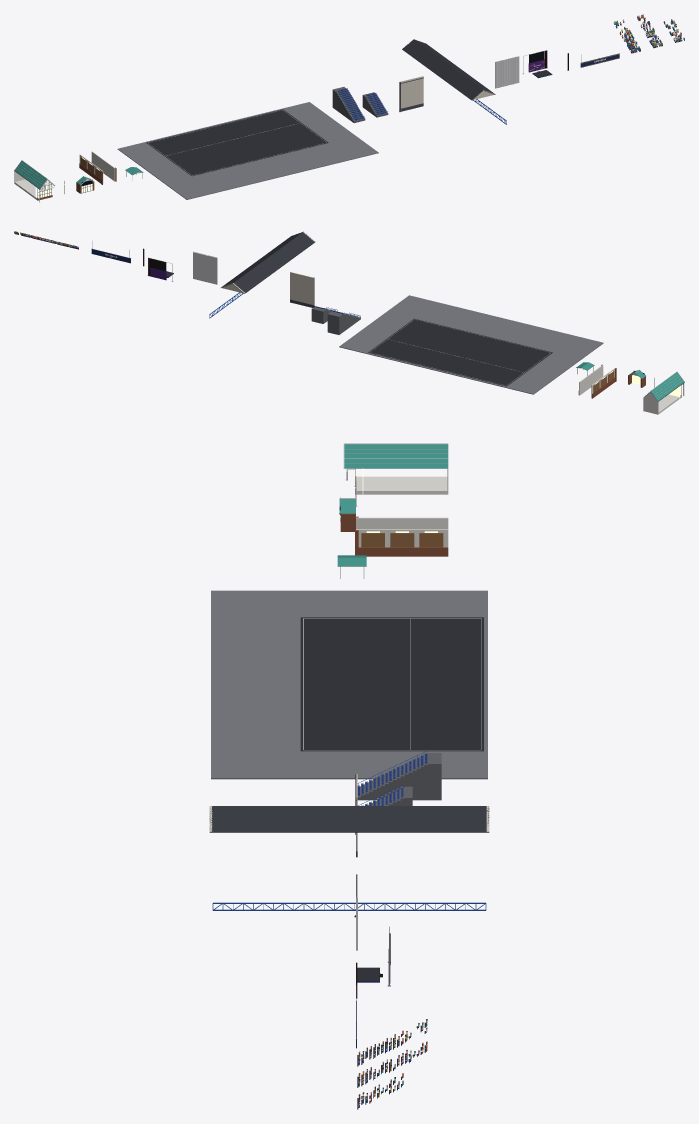
The model's file is NationalsArena_06.glb.
3 views of the same model, one above another, from view 1: azimuth 30°, elevation 25°; view 2: azimuth 150°, elevation 25°; view 3: azimuth 270°, elevation 25° (orthographic). The views are drawn at different scales.
Parts seen in each view (by area): view 1: NatFloor_Concrete, NatFloor_Rubber, NatRoofBay_Plates, NatDrape_Cloth, NatWall_Wall, NatStandMain_Steps, NatBay_Roof, NatStandEnd_Steps, NatEndRight_Wall; view 2: NatFloor_Concrete, NatFloor_Rubber, NatRoofBay_Plates, NatWall_Wall, NatDrape_Cloth, NatStandMain_Steps, NatBay_Walls, NatBay_Roof, NatEndRight_Wall; view 3: NatFloor_Concrete, NatFloor_Rubber, NatRoofBay_Plates, NatBay_Roof, NatStandMain_Steps, NatBay_Walls, NatTruss_Steel, NatEndLeft_Wall, NatEndRight_Wood, NatEndRight_Brick.
Boxes of the visible parts, <box> form: NatFloor_Concrete: <box>117,102,378,199</box>; NatFloor_Rubber: <box>146,109,328,176</box>; NatRoofBay_Plates: <box>402,39,495,100</box>; NatDrape_Cloth: <box>495,56,519,88</box>; NatWall_Wall: <box>399,76,423,108</box>; NatStandMain_Steps: <box>332,87,365,123</box>; NatBay_Roof: <box>14,160,54,188</box>; NatStandEnd_Steps: <box>362,92,388,117</box>; NatEndRight_Wall: <box>91,151,115,181</box>; NatFloor_Concrete: <box>339,295,603,394</box>; NatFloor_Rubber: <box>368,318,552,386</box>; NatRoofBay_Plates: <box>221,231,314,293</box>; NatWall_Wall: <box>290,272,314,305</box>; NatDrape_Cloth: <box>193,252,217,284</box>; NatStandMain_Steps: <box>327,311,360,334</box>; NatBay_Walls: <box>643,392,681,414</box>; NatBay_Roof: <box>644,372,683,401</box>; NatEndRight_Wall: <box>579,365,603,395</box>; NatFloor_Concrete: <box>211,590,487,779</box>; NatFloor_Rubber: <box>300,617,483,751</box>; NatRoofBay_Plates: <box>209,806,489,832</box>; NatBay_Roof: <box>344,444,448,468</box>; NatStandMain_Steps: <box>357,753,441,800</box>; NatBay_Walls: <box>356,468,448,494</box>; NatTruss_Steel: <box>212,902,486,910</box>; NatEndLeft_Wall: <box>356,517,448,529</box>; NatEndRight_Wood: <box>361,533,443,547</box>; NatEndRight_Brick: <box>355,530,448,556</box>.
Size of the model in its own units: 1135 by 68.4 by 212.
